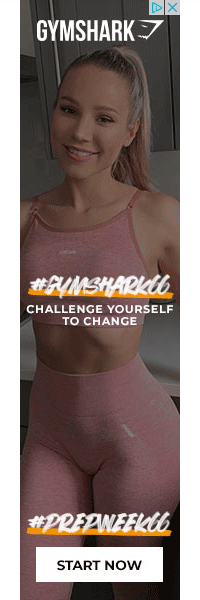fake_button: (32, 542, 171, 586)
